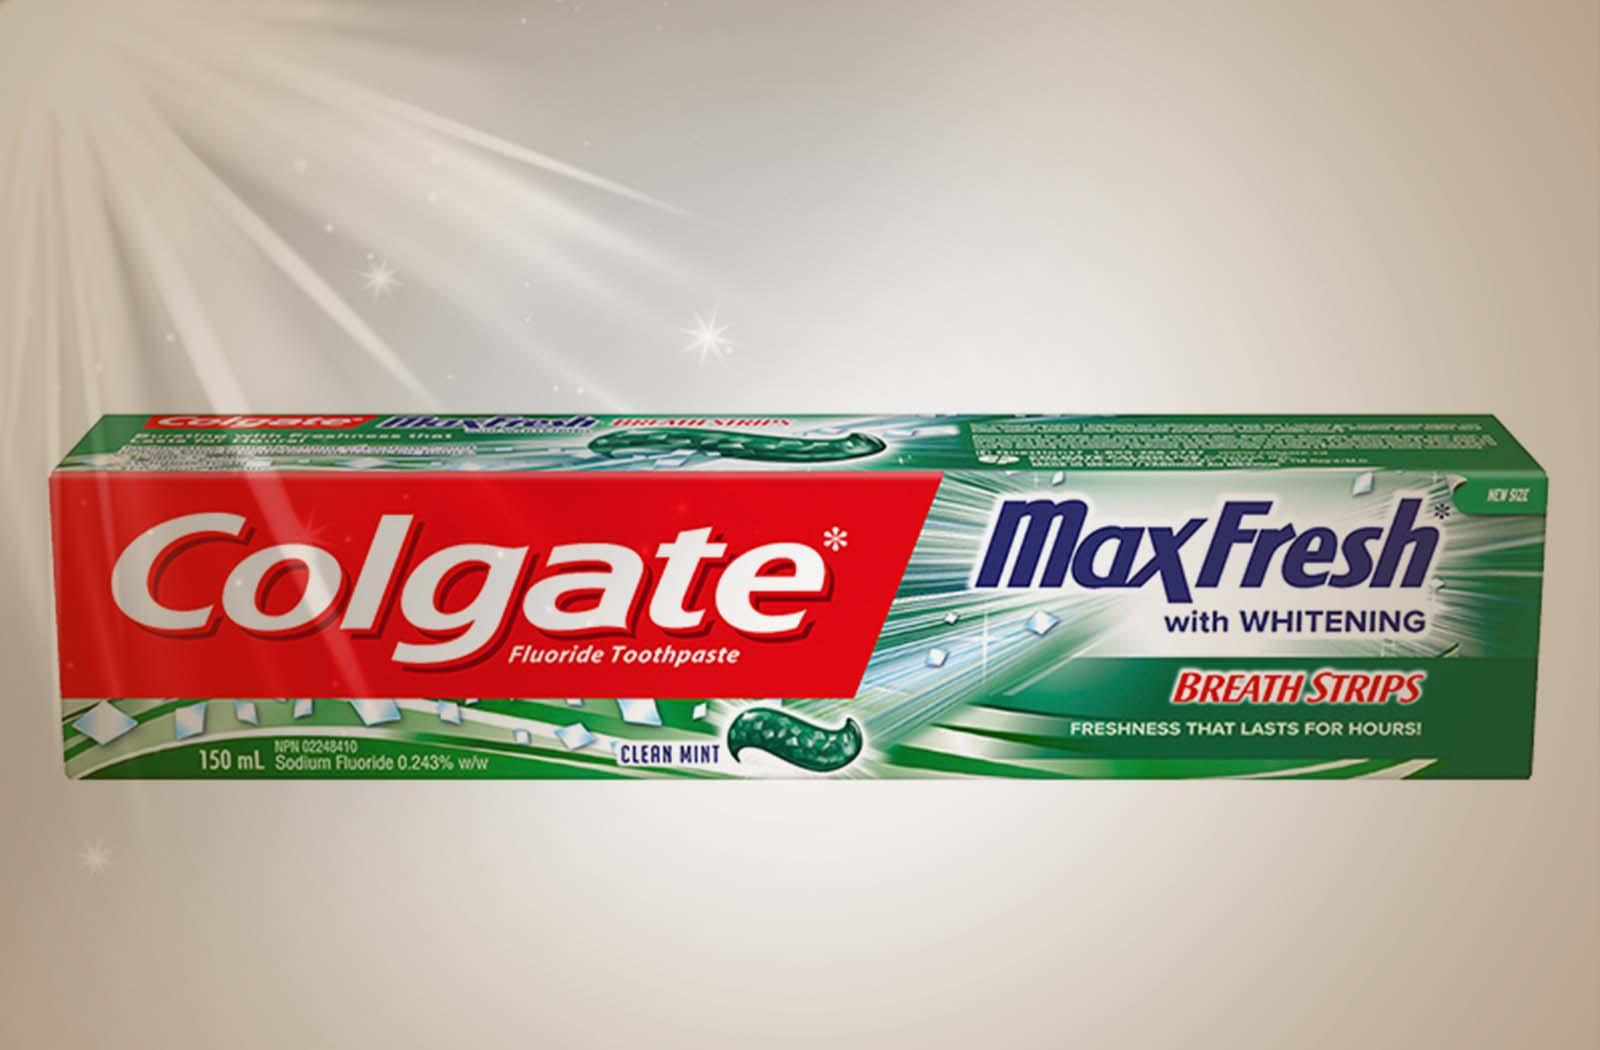toothpaste: (34, 390, 1547, 797)
